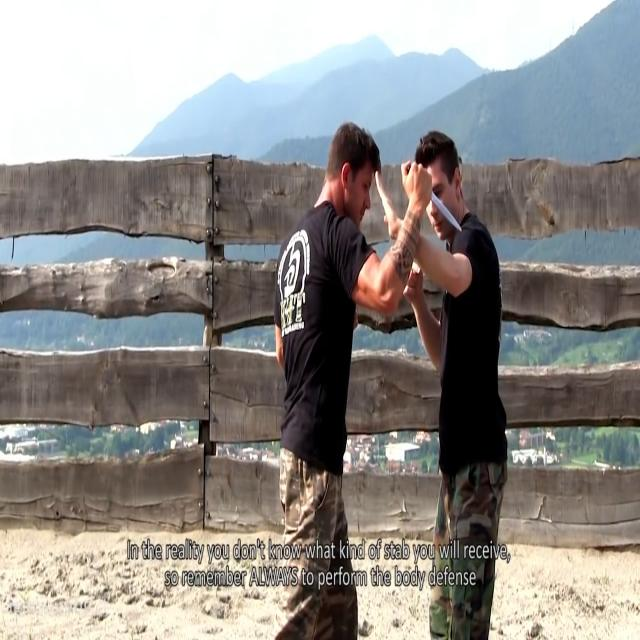knife: (431, 190, 463, 238)
